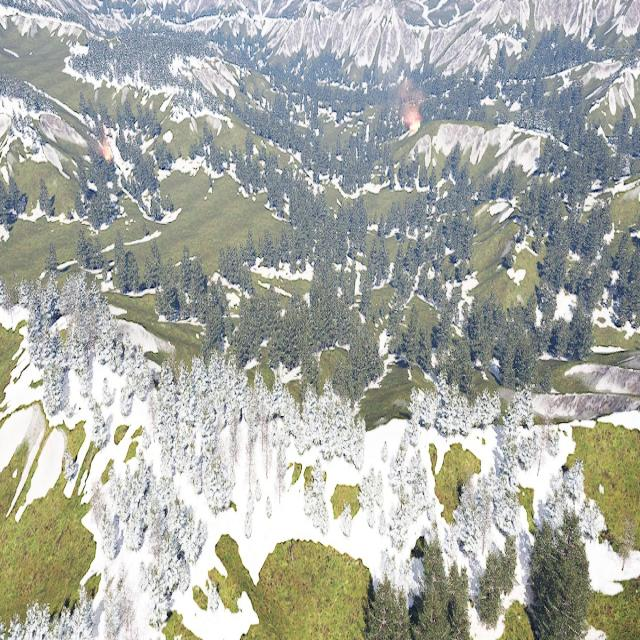fire: (408, 115, 422, 131), (103, 145, 112, 162)
smoke: (399, 72, 424, 121)
